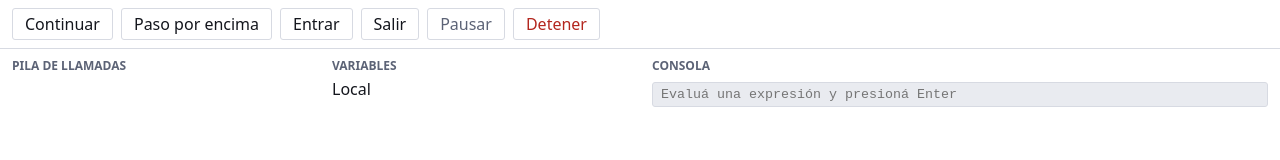
Scenario: RF-505: la consola › evalúa una expresión y anota lo escrito antes de la respuesta
The width and height of the screenshot is (1280, 160).
Type "a + 1" into the field with test id "debug-console-input".
click(960, 94); type("a + 1")  # box [652, 82, 1268, 107]
Then press Enter
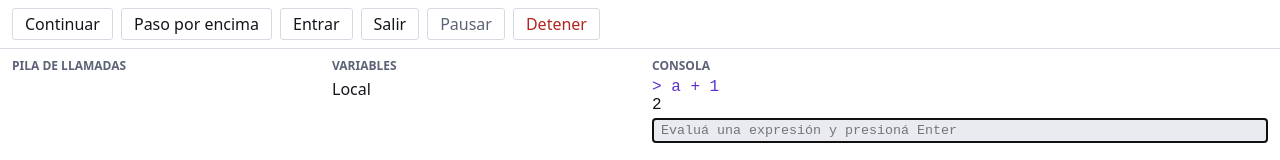
Check: the list with test id "debug-console" shows "> a + 1", box [652, 78, 719, 96]
